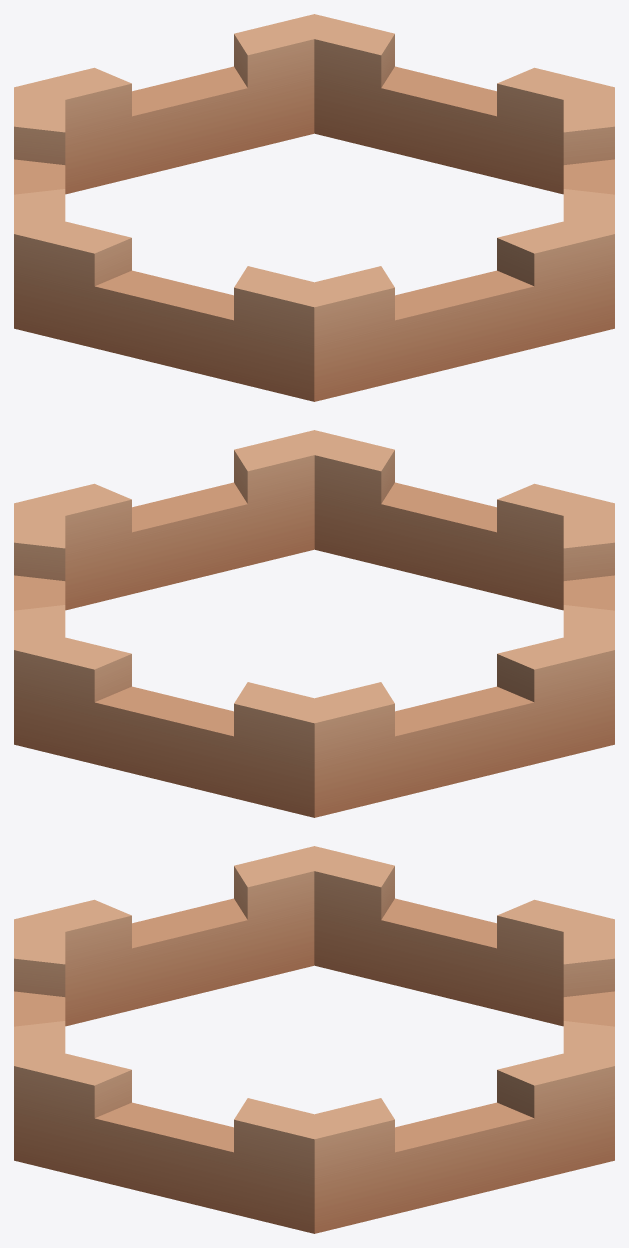
The model's file is tower-hexagon-top.obj.
3 views of the same model, one above another, from view 1: azimuth 30°, elevation 25°; view 2: azimuth 150°, elevation 25°; view 3: azimuth 270°, elevation 25° (orthographic).
Visible parts, largest first — view 1: tower-hexagon-top; view 2: tower-hexagon-top; view 3: tower-hexagon-top.
Boxes of the visible parts, box(x1,y1,x2,y2) form: tower-hexagon-top: box(14, 14, 614, 401); tower-hexagon-top: box(14, 430, 614, 817); tower-hexagon-top: box(14, 846, 614, 1233).
Bounding box in the file's own units: 0.864 × 0.13 × 0.7482.
1 material, 1 textured.
